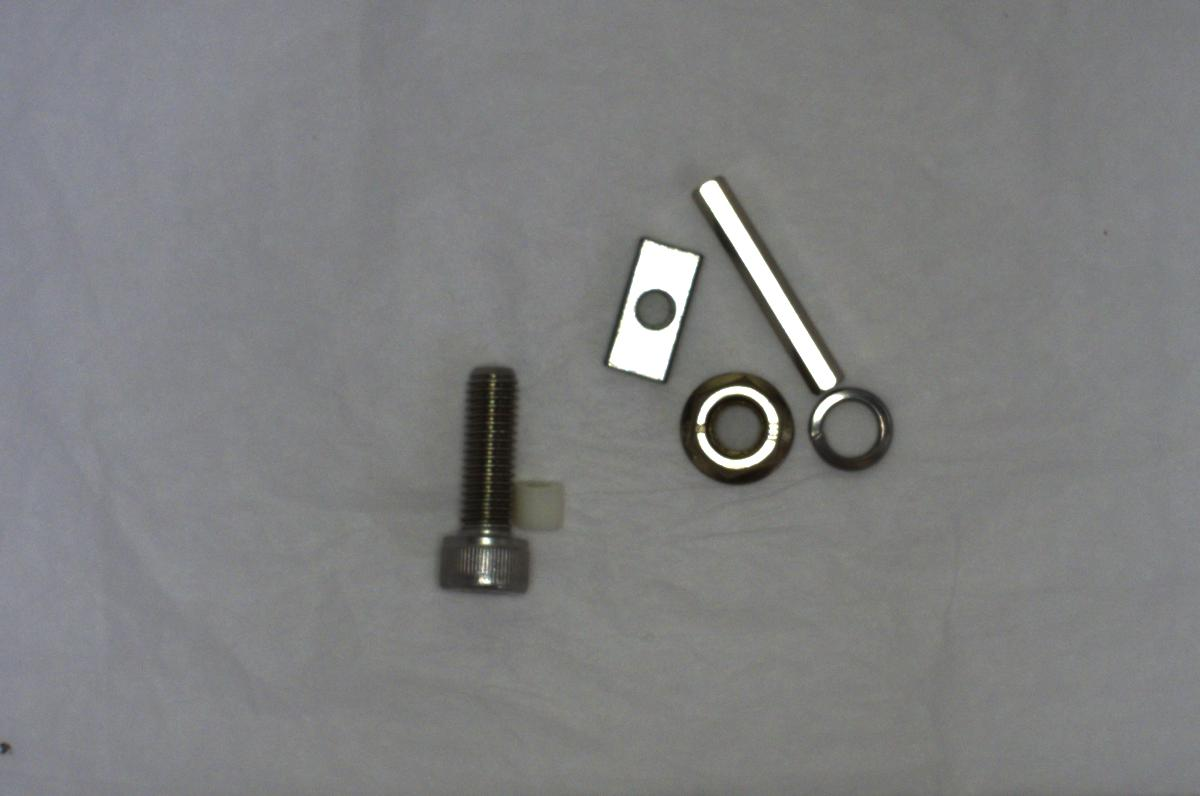Double hexagonal column: (680, 172, 843, 398)
Flange nut: (667, 371, 801, 487)
Hexagon screw: (425, 355, 551, 599)
Plastic cushion pillar: (510, 467, 573, 546)
Rectangular nut: (600, 236, 702, 378)
Spring washer: (801, 386, 898, 477)
